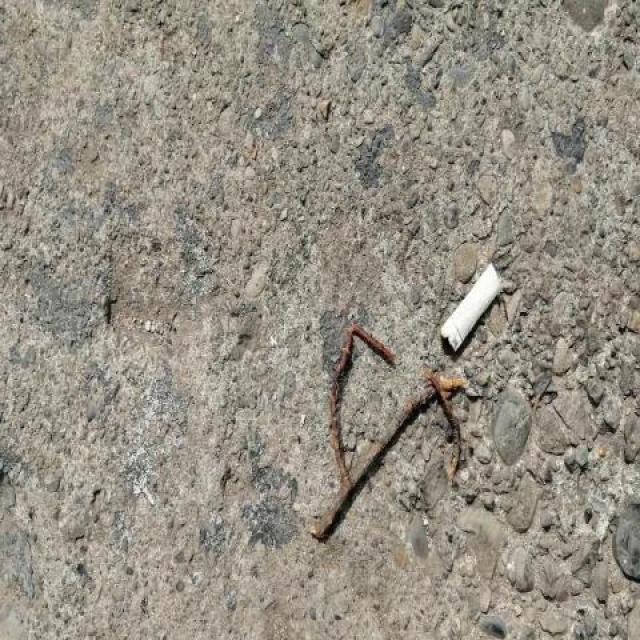non-organic waste: (438, 258, 506, 359)
